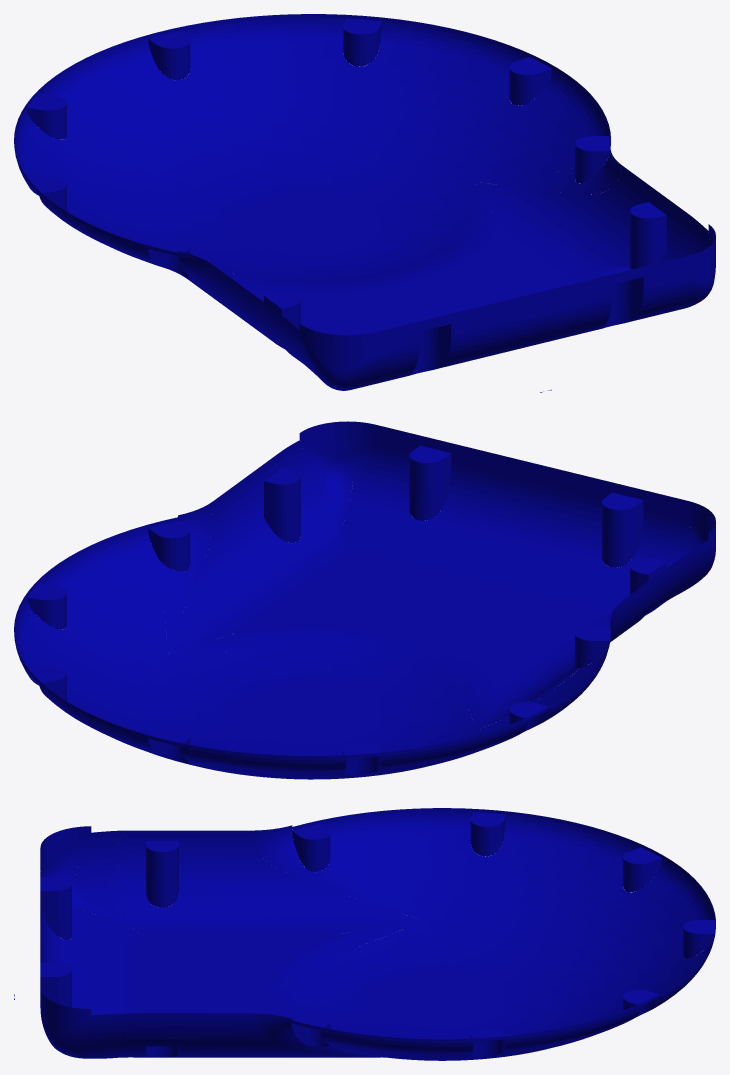
Rendered from cover.dae.
The picture shows the model from 3 angles, top to bottom: view 1: azimuth 30°, elevation 25°; view 2: azimuth 150°, elevation 25°; view 3: azimuth 270°, elevation 25°; orthographic projection. The views are drawn at different scales.
Visible parts, largest first — view 1: Cover; view 2: Cover; view 3: Cover.
Boxes of the visible parts, x1=… form: Cover: x1=14, y1=14, x2=715, y2=392; Cover: x1=14, y1=421, x2=715, y2=779; Cover: x1=14, y1=808, x2=715, y2=1060.
Bounding box in the file's own units: 0.2149 × 0.2758 × 0.037.
